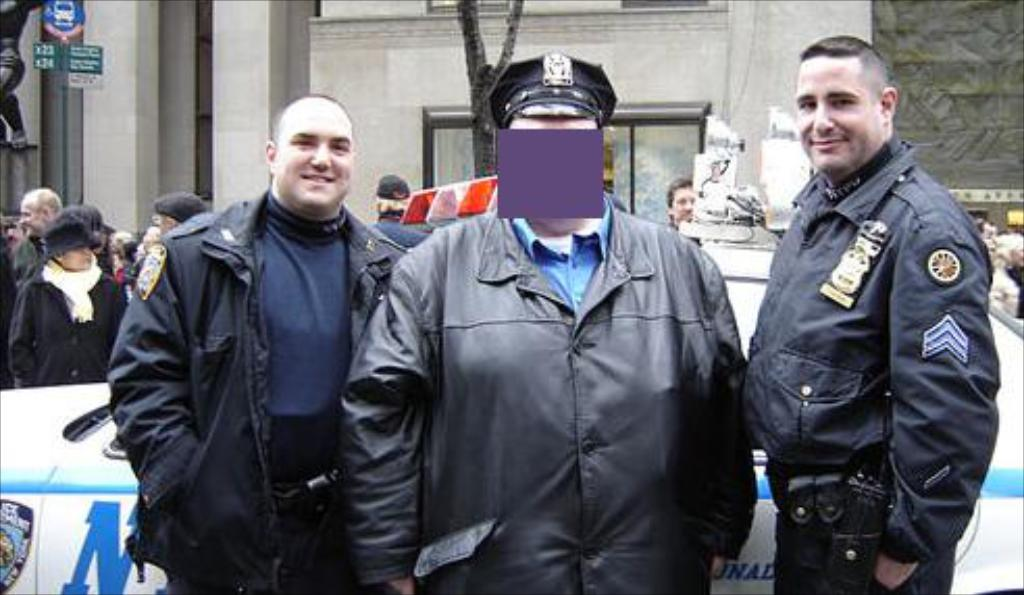Person: (7, 206, 123, 382), (11, 188, 59, 280), (664, 181, 699, 229)
